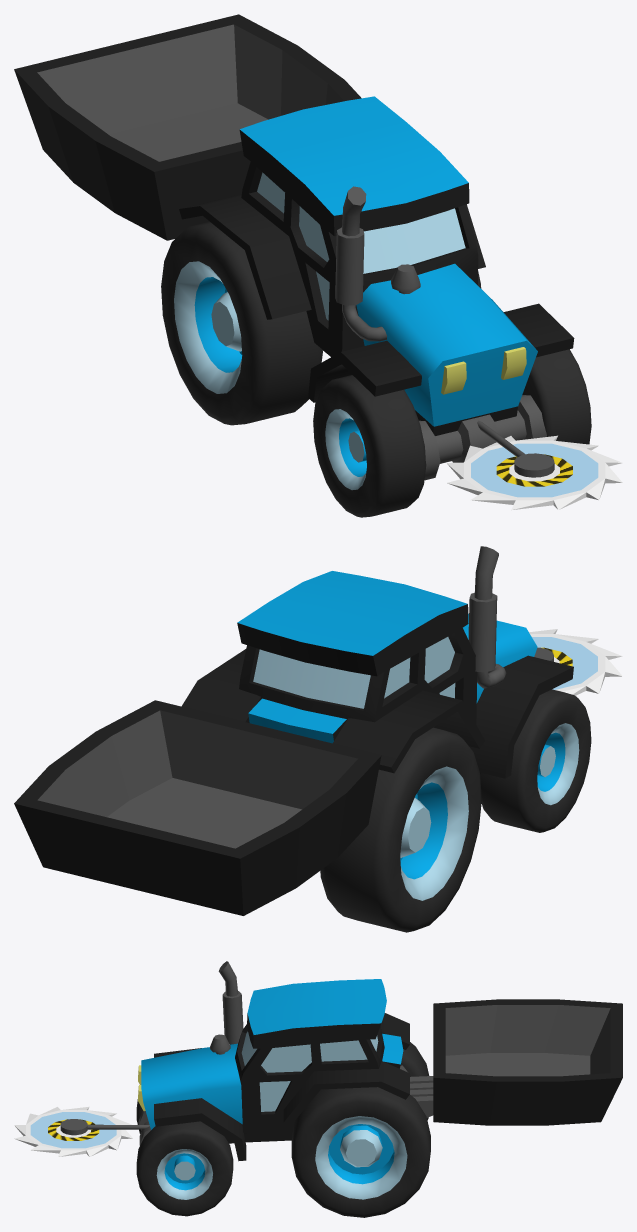
The model's file is tractor (1).fbx.
3 views of the same model, one above another, from view 1: azimuth 30°, elevation 25°; view 2: azimuth 150°, elevation 25°; view 3: azimuth 270°, elevation 25° (orthographic). The views are drawn at different scales.
Visible parts, largest first — view 1: body, frame, wheels_front, saw, saw_frame; view 2: frame, body, wheels_front, saw; view 3: frame, body, wheels_front, saw, saw_frame.
Part boxes in pixels (left/top/right/bottom): body: left=179, top=96, right=574, bottom=435; frame: left=14, top=14, right=546, bottom=480; wheels_front: left=313, top=349, right=591, bottom=517; saw: left=447, top=435, right=622, bottom=510; saw_frame: left=477, top=420, right=554, bottom=477; frame: left=14, top=700, right=481, bottom=932; body: left=181, top=546, right=573, bottom=778; wheels_front: left=480, top=689, right=591, bottom=832; saw: left=529, top=629, right=622, bottom=695; frame: left=138, top=999, right=622, bottom=1217; body: left=138, top=961, right=409, bottom=1161; wheels_front: left=136, top=1099, right=233, bottom=1216; saw: left=14, top=1106, right=132, bottom=1156; saw_frame: left=60, top=1119, right=149, bottom=1135.
Bounding box in the file's own units: 1.3 × 1.47 × 4.08.
10 materials, 3 textured.
